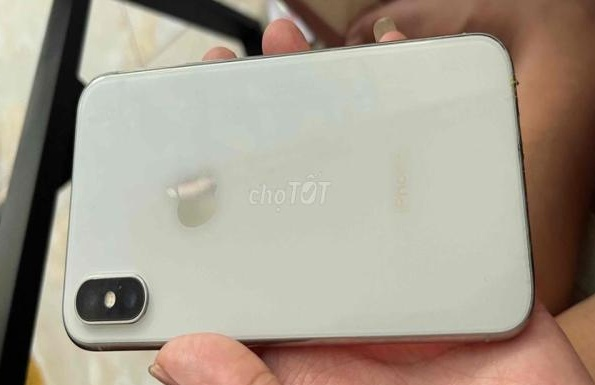scratch: (106, 60, 225, 84)
